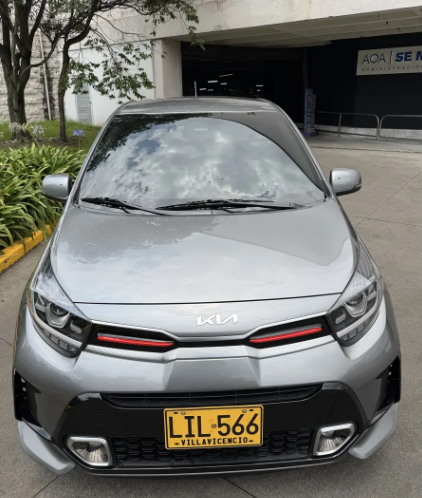placa: (163, 408, 261, 449)
